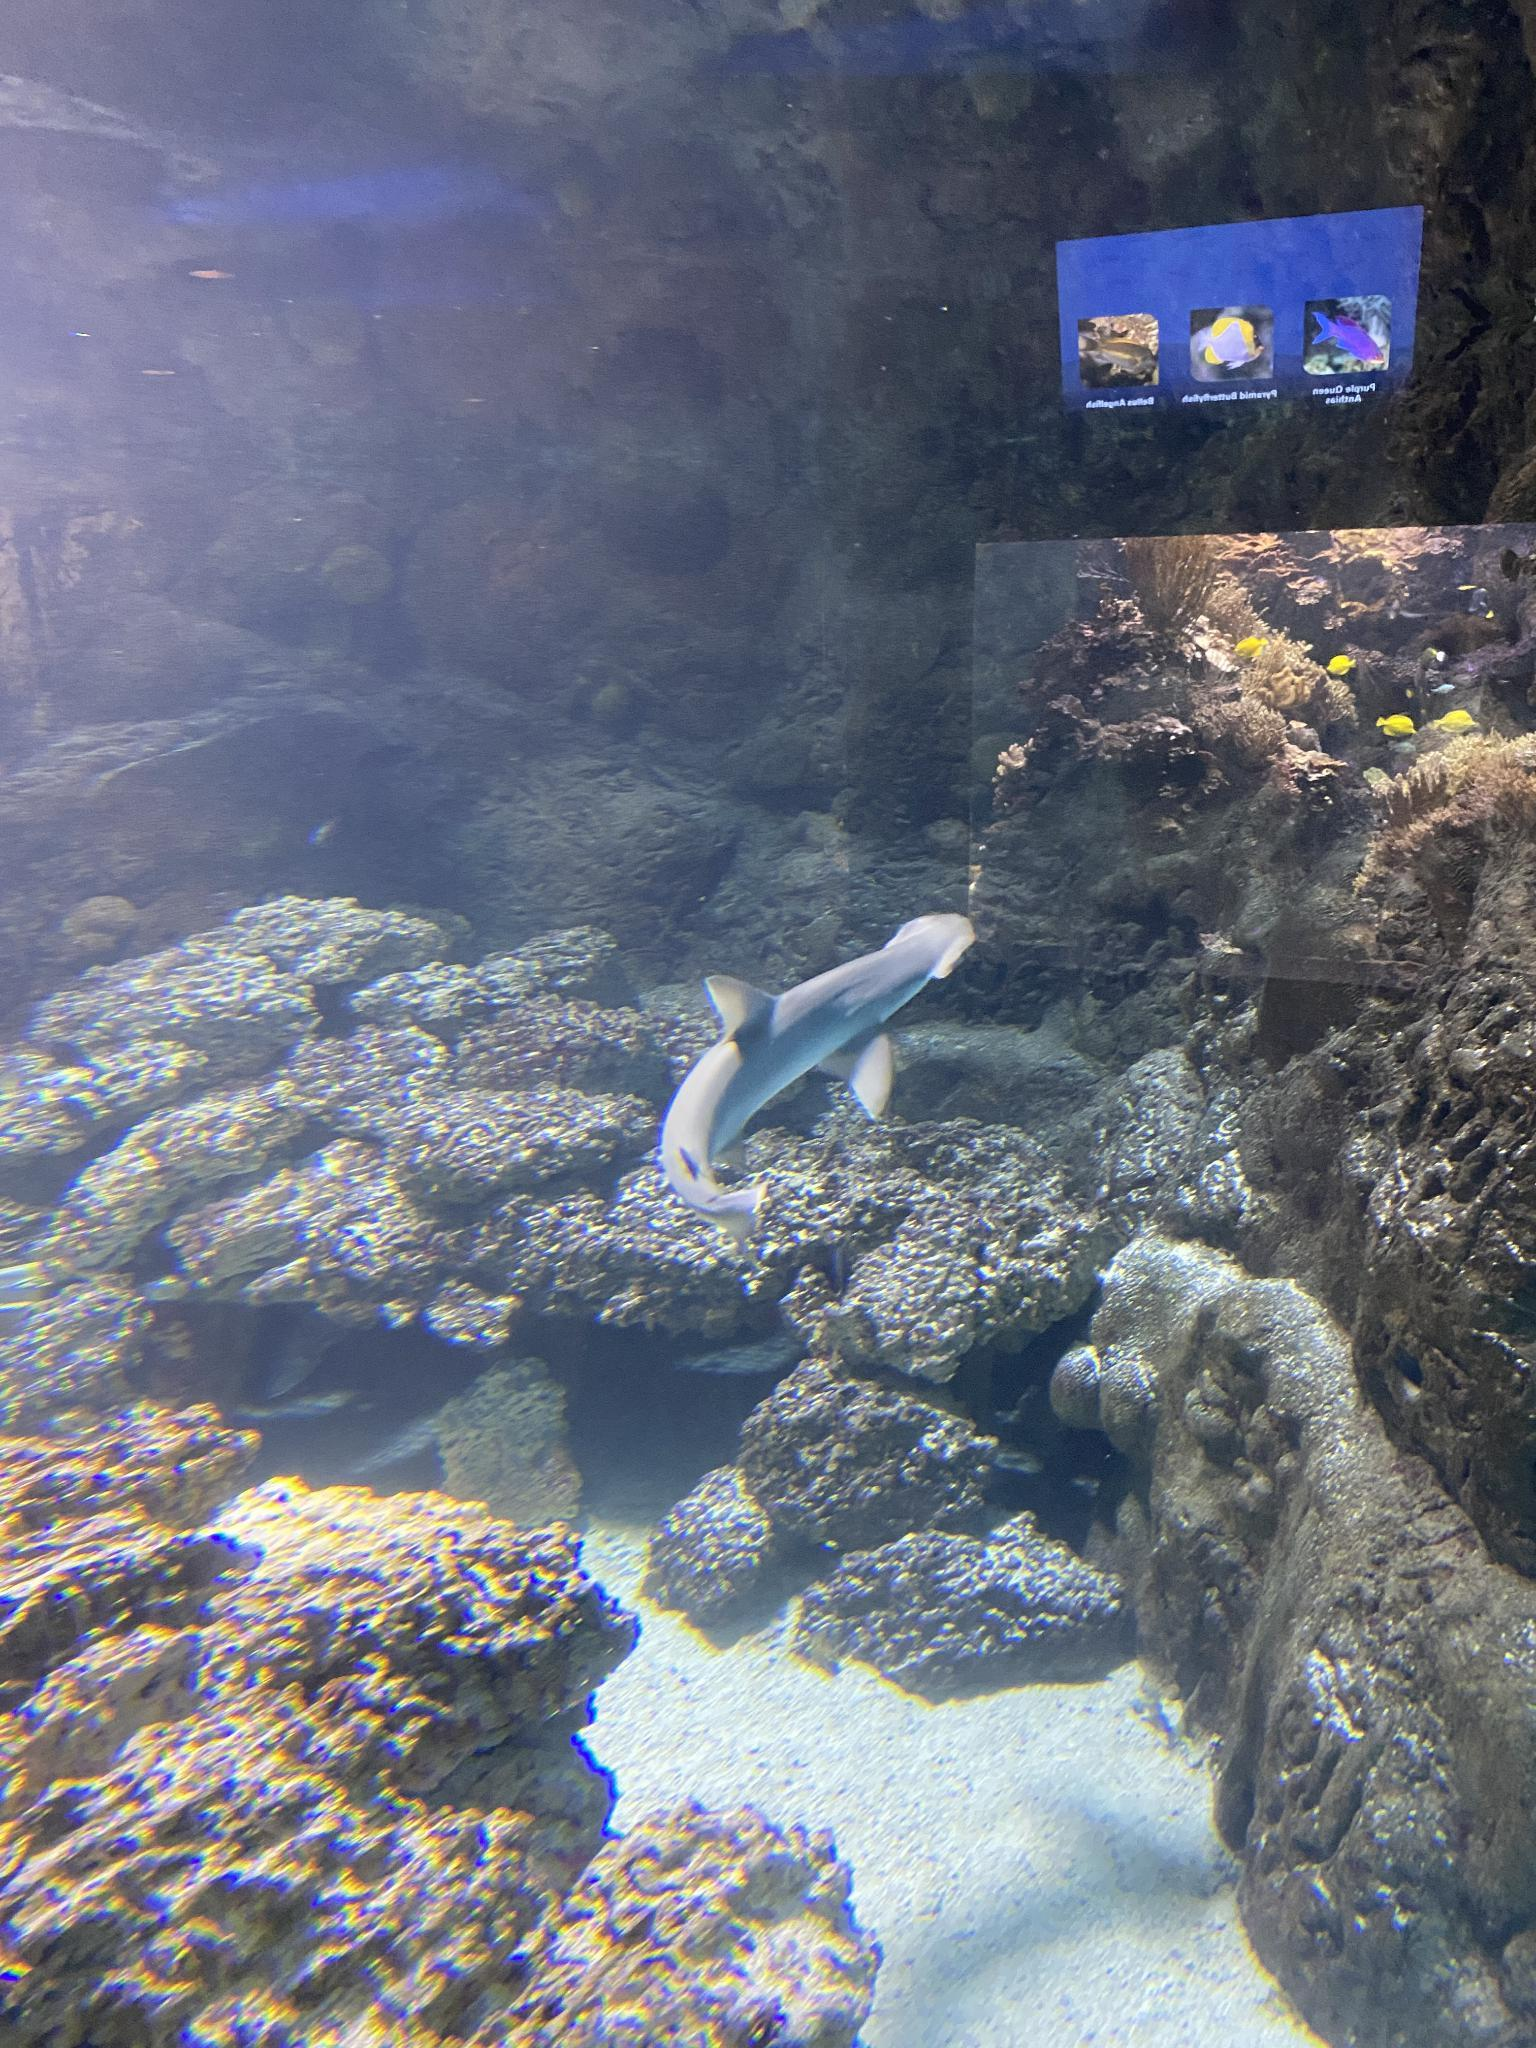shark: (663, 913, 975, 1221)
